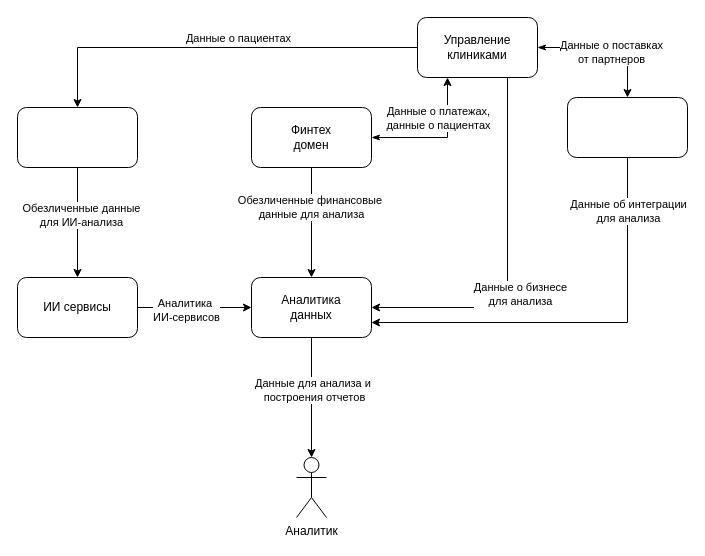
The diagram is 705 pixels wide and 556 high, and some of its shapes have lost their labels. The centre of each missing label's shape, as x and y in pixels:
"Медицинский домен" goes at (x=77, y=137).
"Партнерские системы" goes at (x=627, y=127).
